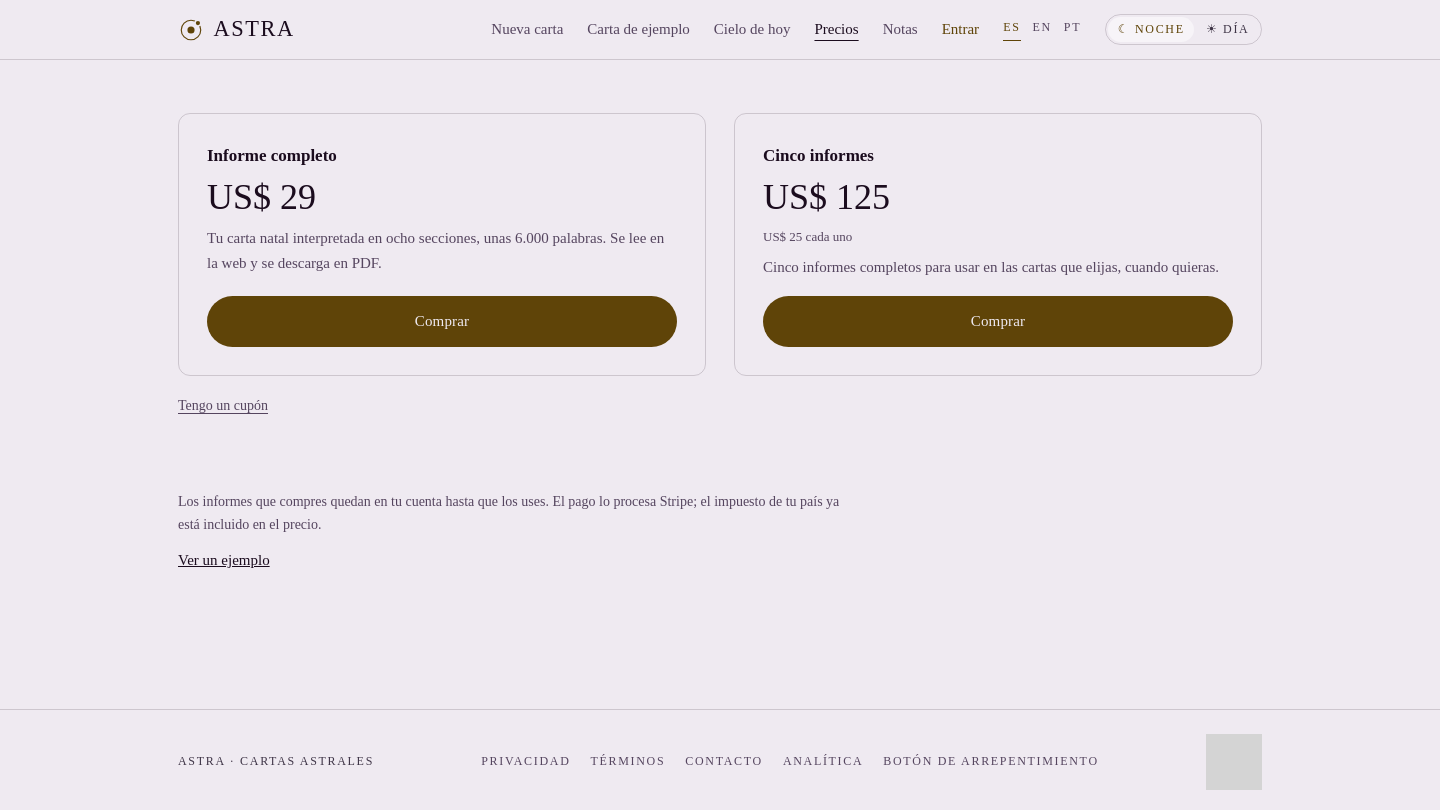
Test: /precios?cupon= › sin cupón sólo hay una línea, y el campo aparece al tocarla
(page scrolled)
Click the button "Tengo un cupón". click: (223, 405)
box: [178,394,268,417]
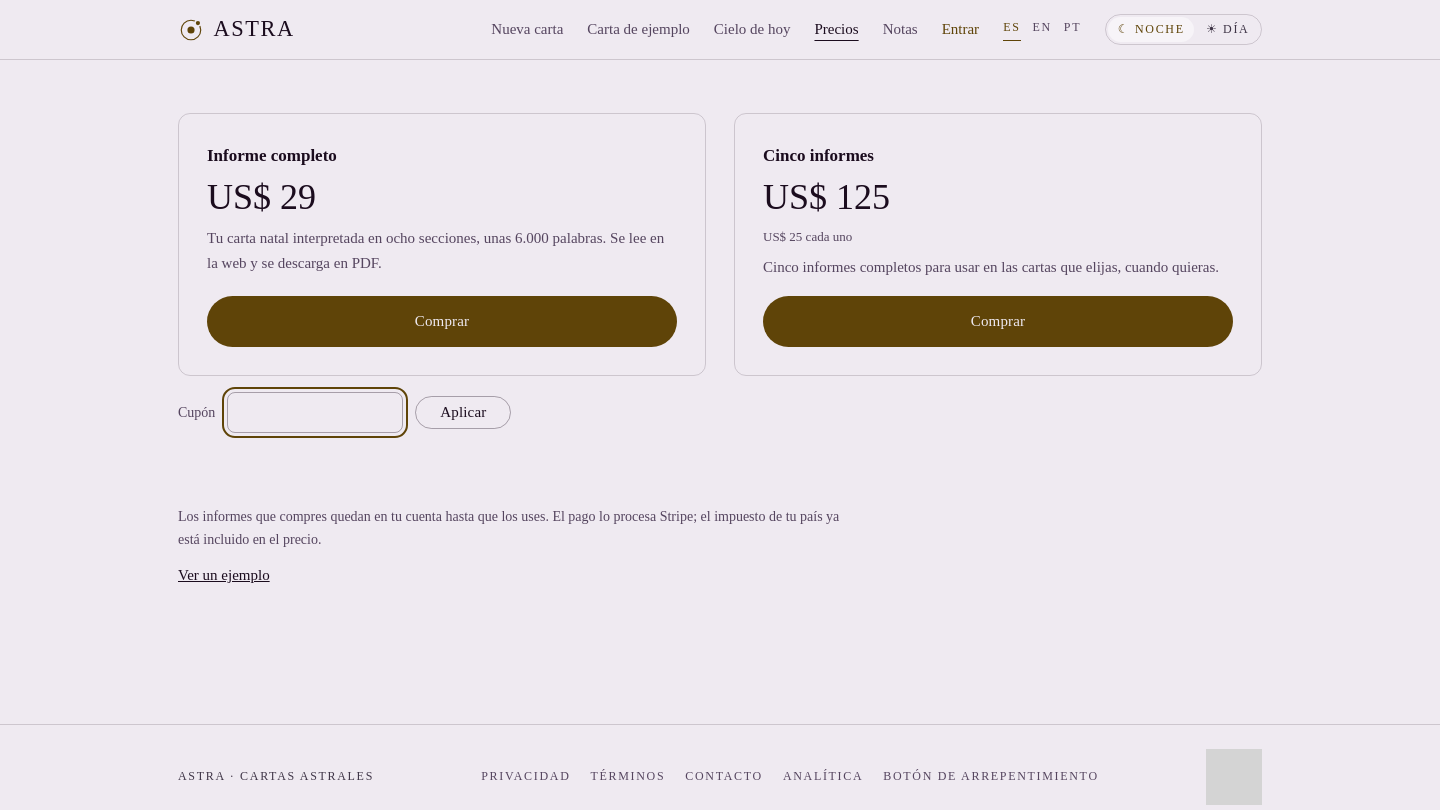
Result: the field labelled "Cupón" is shown at [227,392,403,433]
